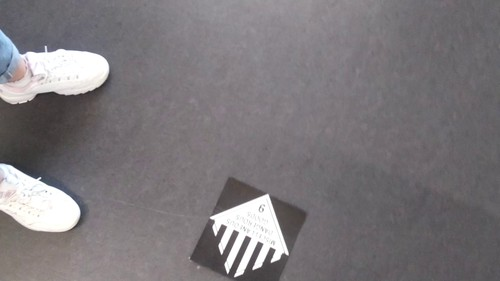misgoods: (207, 195, 294, 279)
